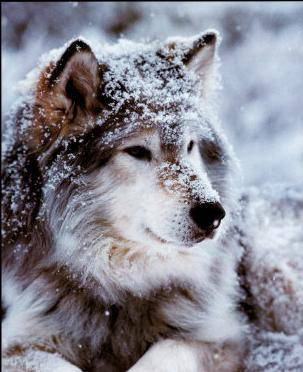Lobo: (8, 23, 269, 340)
